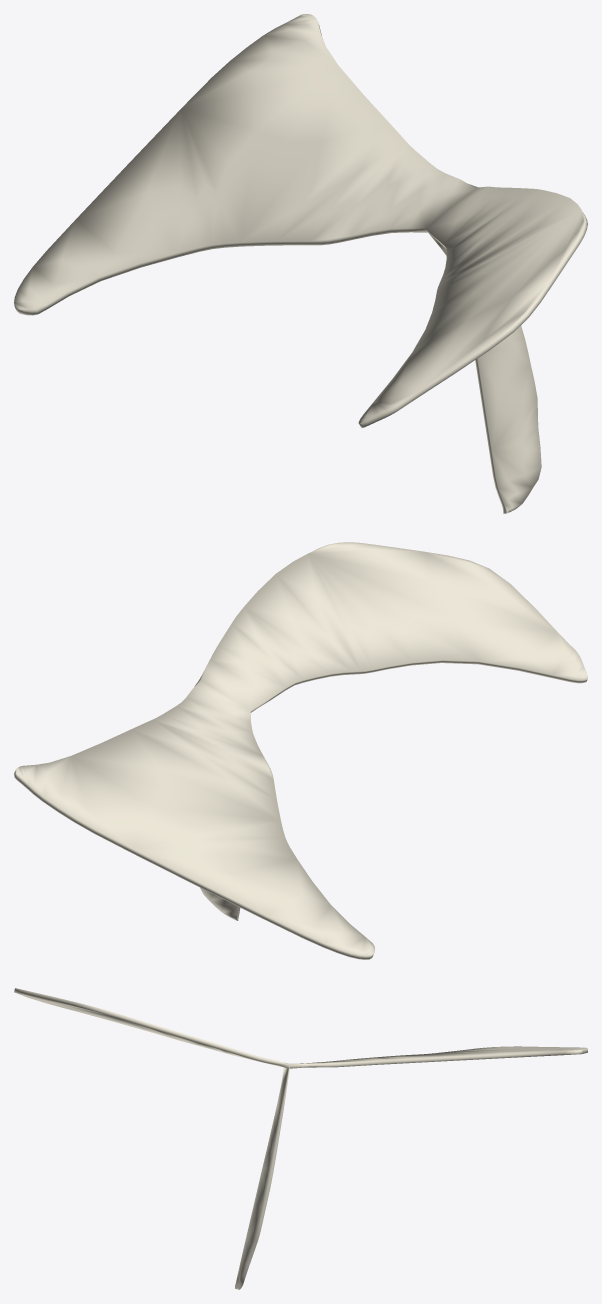
3 renders of one model, top to bottom at view 1: azimuth 30°, elevation 25°; view 2: azimuth 150°, elevation 25°; view 3: azimuth 270°, elevation 25°, orthographic. The views are drawn at different scales.
Parts seen in each view (by area): view 1: ZA_5c8df8c000ef1dd6; view 2: ZA_5c8df8c000ef1dd6; view 3: ZA_5c8df8c000ef1dd6.
Part boxes in pixels (box(x1,y1,x2,y2)): ZA_5c8df8c000ef1dd6: box(14, 14, 587, 513); ZA_5c8df8c000ef1dd6: box(14, 542, 587, 959); ZA_5c8df8c000ef1dd6: box(14, 988, 587, 1289).
Bounding box in the file's own units: 0.0378 × 0.036 × 0.0678.
